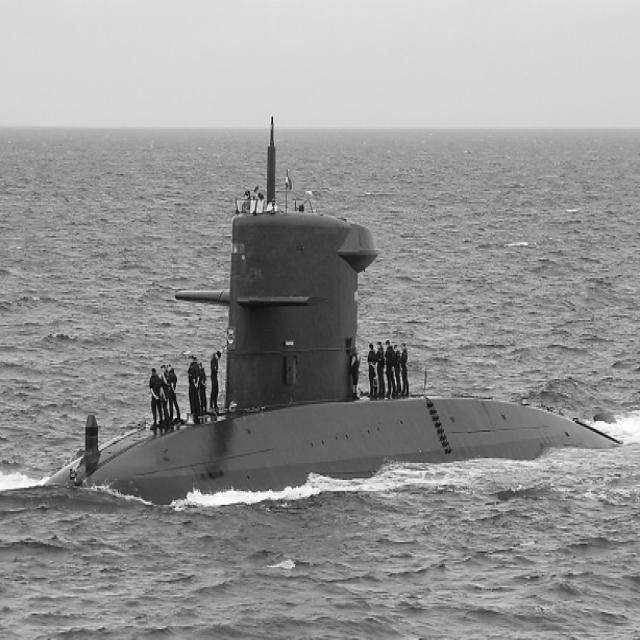submarine: (42, 121, 627, 497)
